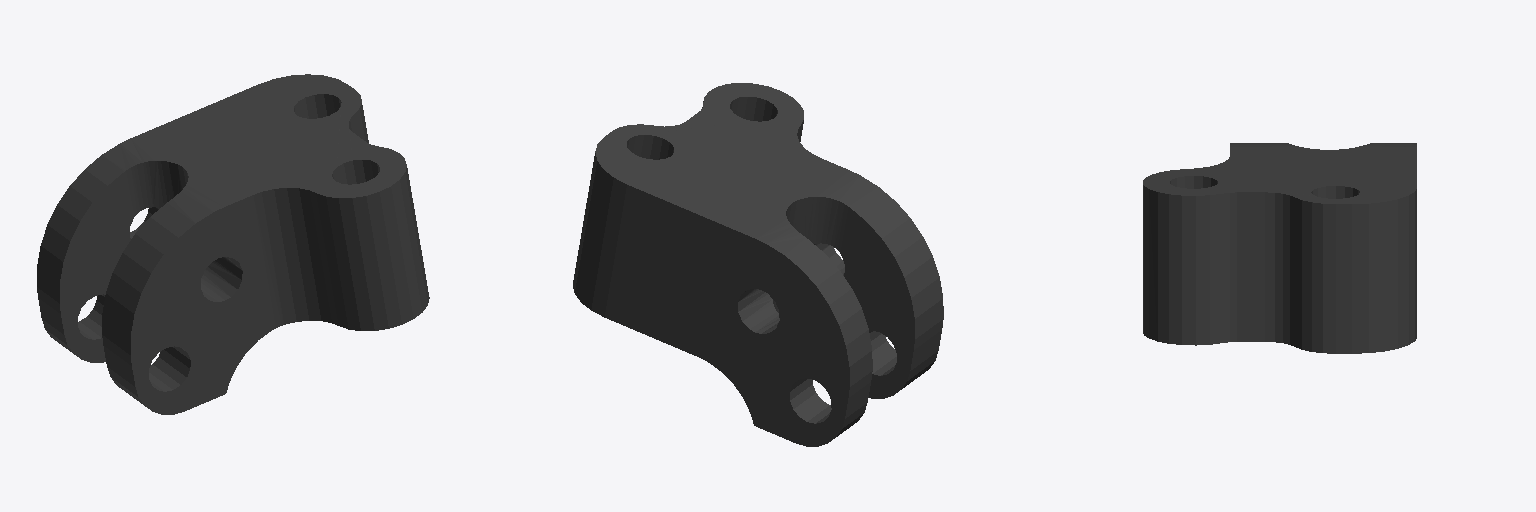
The picture shows the model from 3 angles: view 1: azimuth 30°, elevation 25°; view 2: azimuth 150°, elevation 25°; view 3: azimuth 270°, elevation 25°; orthographic projection.
Visible parts, largest first — view 1: Link11_L; view 2: Link11_L; view 3: Link11_L.
Boxes of the visible parts, box(x1,y1,x2,y2) form: Link11_L: box(37, 74, 429, 414); Link11_L: box(573, 83, 943, 446); Link11_L: box(1143, 143, 1416, 353).
Bounding box in the file's own units: 0.0213 × 0.0154 × 0.0168.